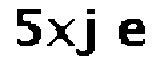5: (12, 6, 44, 51)
e: (115, 13, 150, 50)
j: (75, 6, 99, 60)
x: (44, 15, 78, 50)
